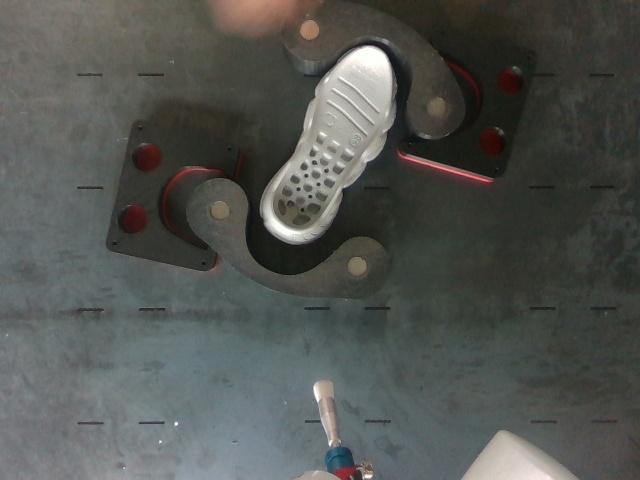shoes: (272, 47, 392, 230)
